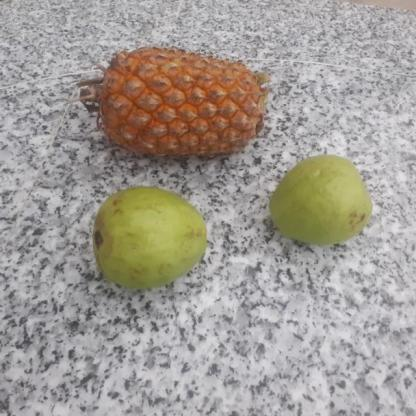guava: (87, 190, 204, 288), (266, 156, 373, 243)
pineapple: (95, 44, 266, 163)
